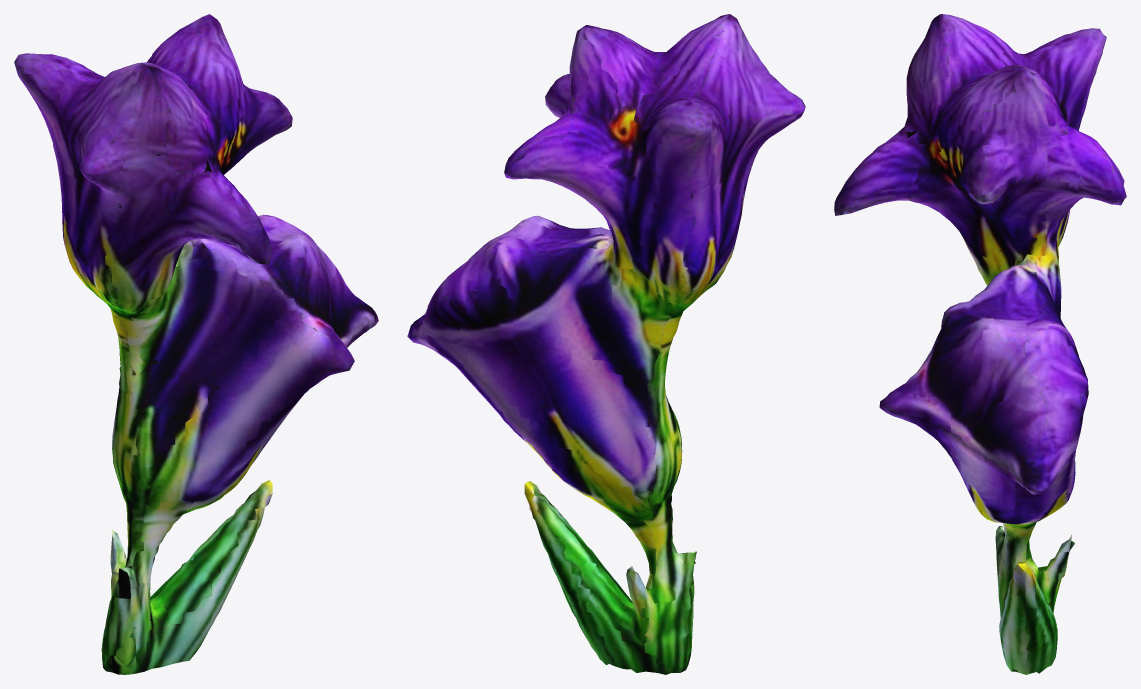
3 renders of one model, left to right at view 1: azimuth 30°, elevation 25°; view 2: azimuth 150°, elevation 25°; view 3: azimuth 270°, elevation 25°, orthographic. The views are drawn at different scales.
Visible parts, largest first — view 1: ddc80856; view 2: ddc80856; view 3: ddc80856.
Boxes of the visible parts, x1=… form: ddc80856: x1=14, y1=14, x2=378, y2=674; ddc80856: x1=407, y1=14, x2=805, y2=674; ddc80856: x1=834, y1=14, x2=1126, y2=674.
Bounding box in the file's own units: 0.0917 × 0.1613 × 0.0689.
1 material, 1 textured.
